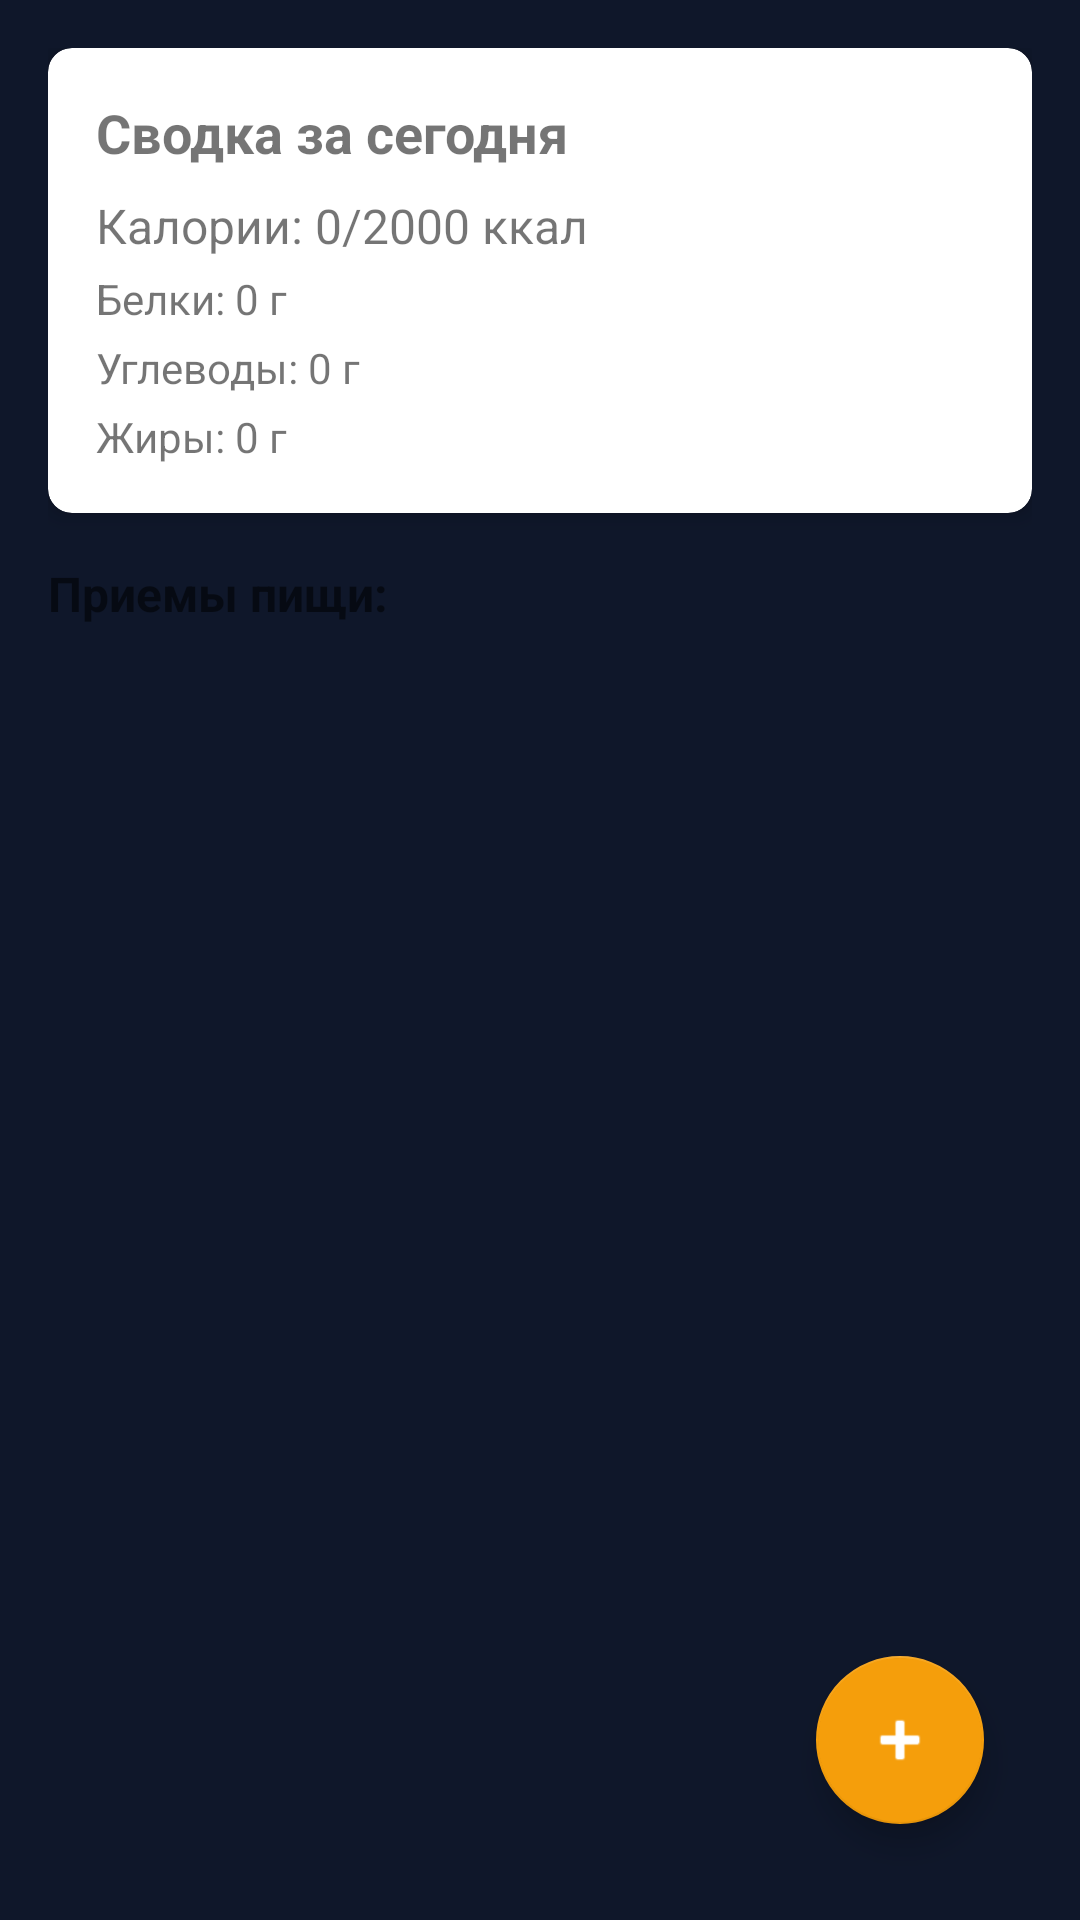

Where icons sit on this 1080px×1920px app screen, as region(x1, y1, x2, y2):
add: region(816, 1656, 984, 1824)
